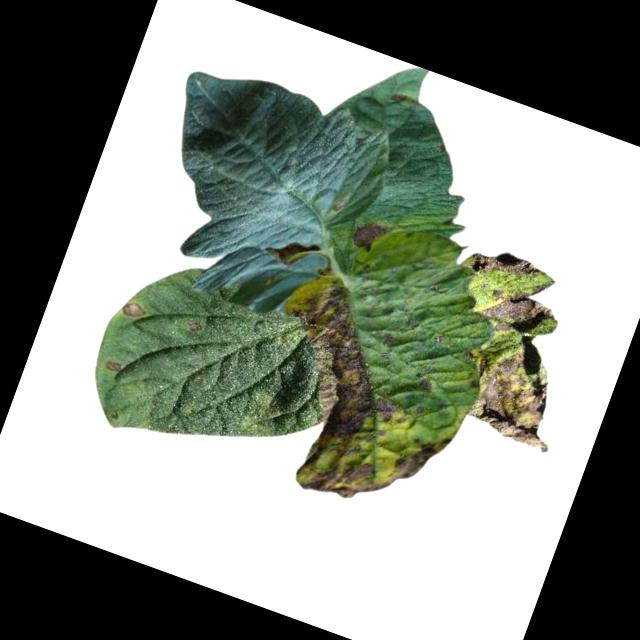Early_blight: (232, 266, 490, 531), (446, 283, 596, 454), (466, 234, 547, 291), (345, 215, 390, 258), (120, 298, 150, 323), (182, 318, 205, 338), (387, 88, 408, 109), (329, 196, 347, 217), (102, 359, 122, 374)
